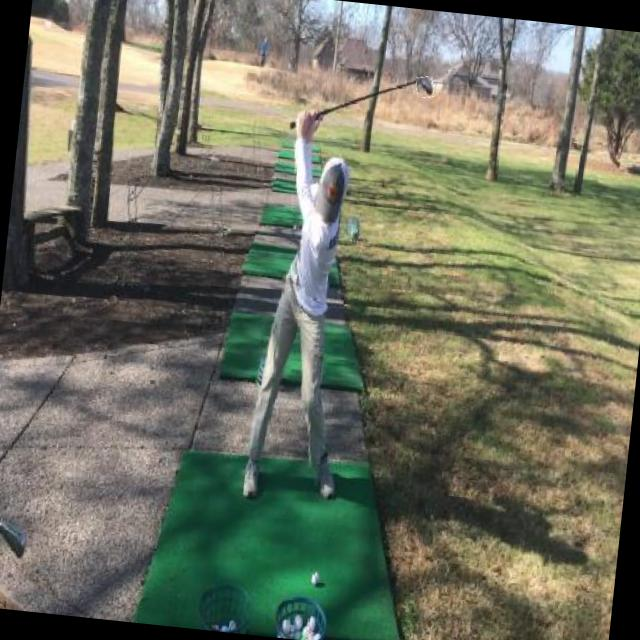club head: (415, 74, 435, 98)
